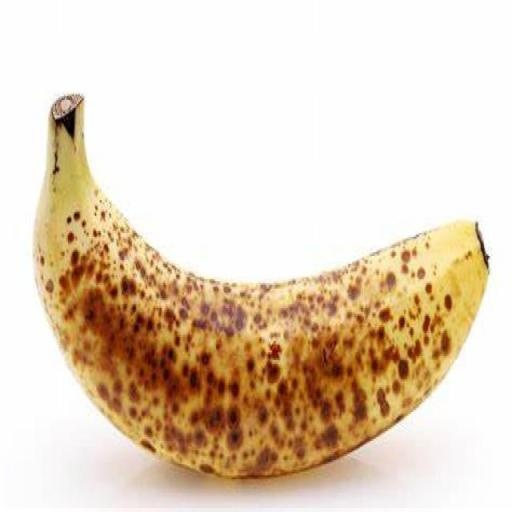fruit: (35, 96, 487, 476)
